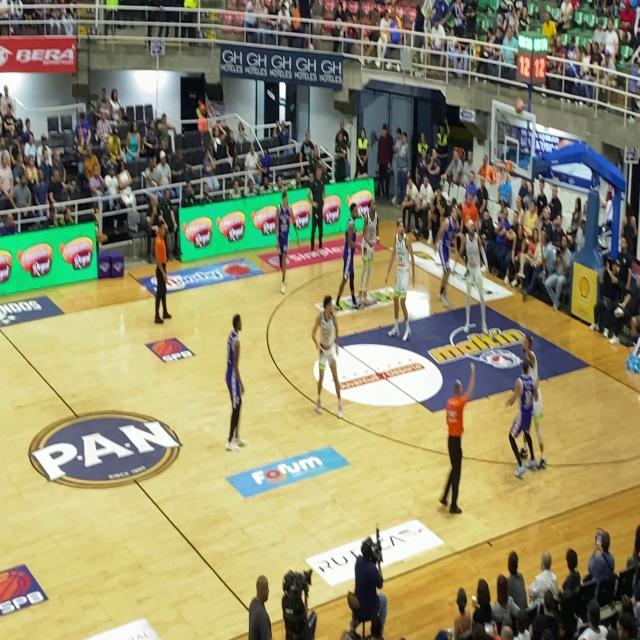Ball: (512, 93, 526, 121)
referee: (434, 350, 476, 524), (148, 210, 170, 334)
team1: (304, 274, 351, 426), (459, 200, 497, 350), (384, 215, 421, 362), (524, 304, 552, 495), (358, 182, 381, 315)
team2: (212, 305, 250, 462), (508, 356, 538, 479), (436, 182, 461, 324), (334, 194, 360, 326), (271, 187, 296, 299)
